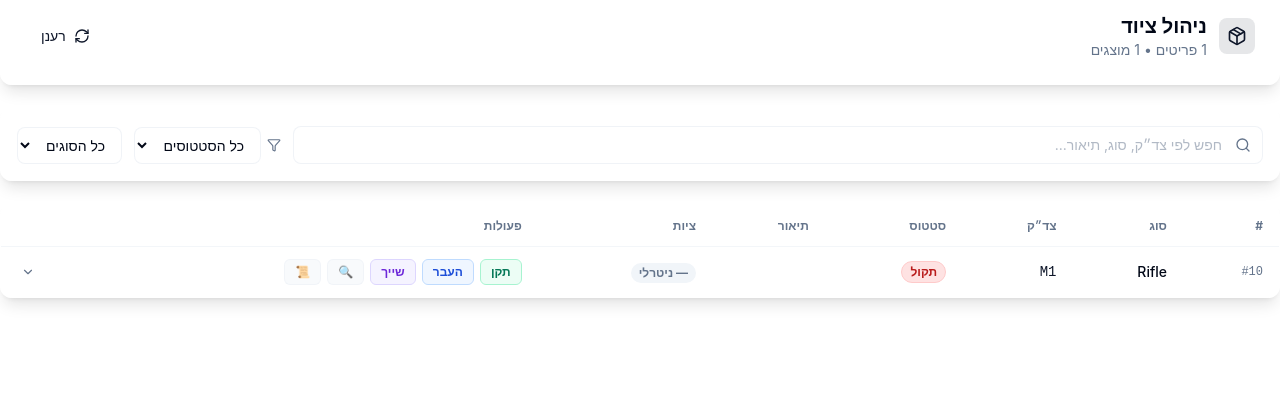
EquipmentPage inline history: collapsing the row aborts its read (FE-H5) › still logs a real failure and stops loading
This screenshot has width=1280, height=394.
Expected: the button "העבר" is shown, [422, 259, 474, 285]
Click the 2nd button at coordinates (28, 272), box [17, 260, 39, 282]
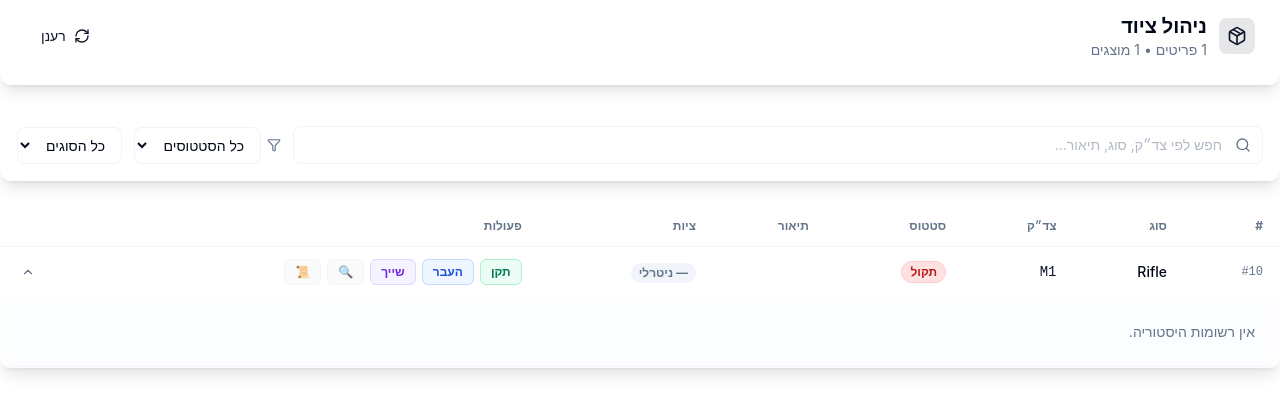
Expected: the text "אין רשומות היסטוריה." is shown, [1129, 323, 1255, 340]
